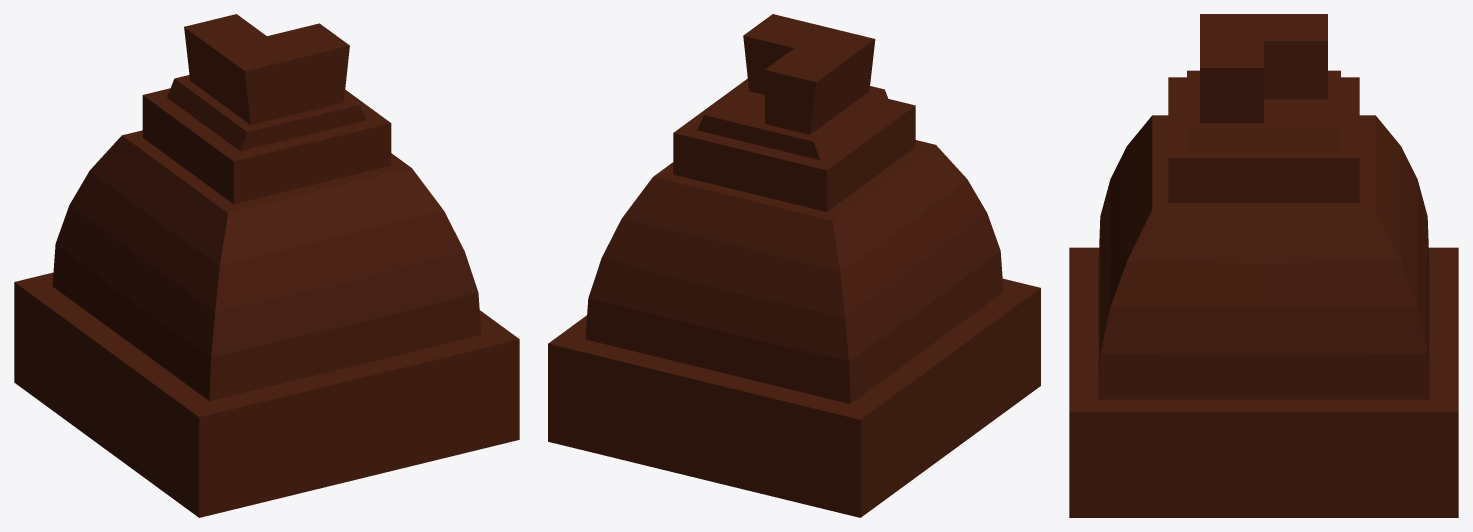
The picture shows the model from 3 angles, left to right: view 1: azimuth 30°, elevation 25°; view 2: azimuth 150°, elevation 25°; view 3: azimuth 270°, elevation 25°; orthographic projection. The views are drawn at different scales.
Parts seen in each view (by area): view 1: Small Pillar; view 2: Small Pillar; view 3: Small Pillar.
Boxes of the visible parts, x1=… form: Small Pillar: x1=14, y1=14, x2=519, y2=517; Small Pillar: x1=548, y1=14, x2=1040, y2=517; Small Pillar: x1=1069, y1=14, x2=1458, y2=517.
Bounding box in the file's own units: 1 × 1.12 × 1.
